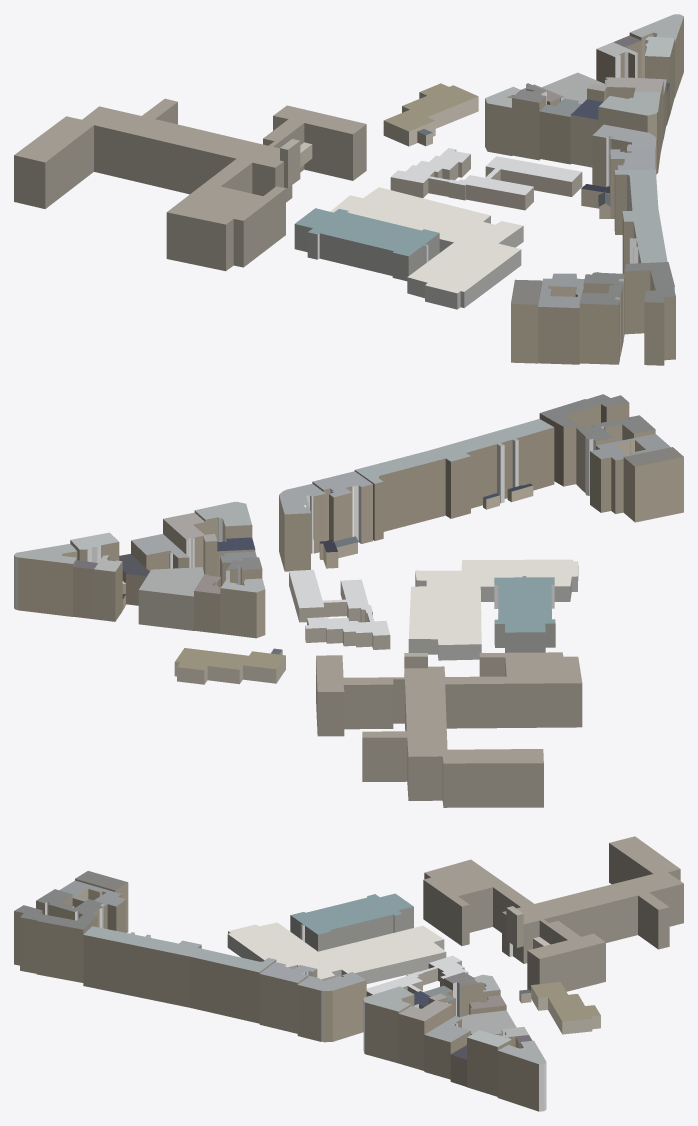
3 renders of one model, top to bottom at view 1: azimuth 30°, elevation 25°; view 2: azimuth 150°, elevation 25°; view 3: azimuth 270°, elevation 25°, orthographic. The views are drawn at different scales.
Parts seen in each view (by area): view 1: tuile; view 2: tuile; view 3: tuile.
Part boxes in pixels (box(x1,y1,x2,y2)): tuile: box(14, 14, 683, 365); tuile: box(14, 394, 683, 807); tuile: box(14, 836, 683, 1111).
Bounding box in the file's own units: 288 × 43.68 × 321.
